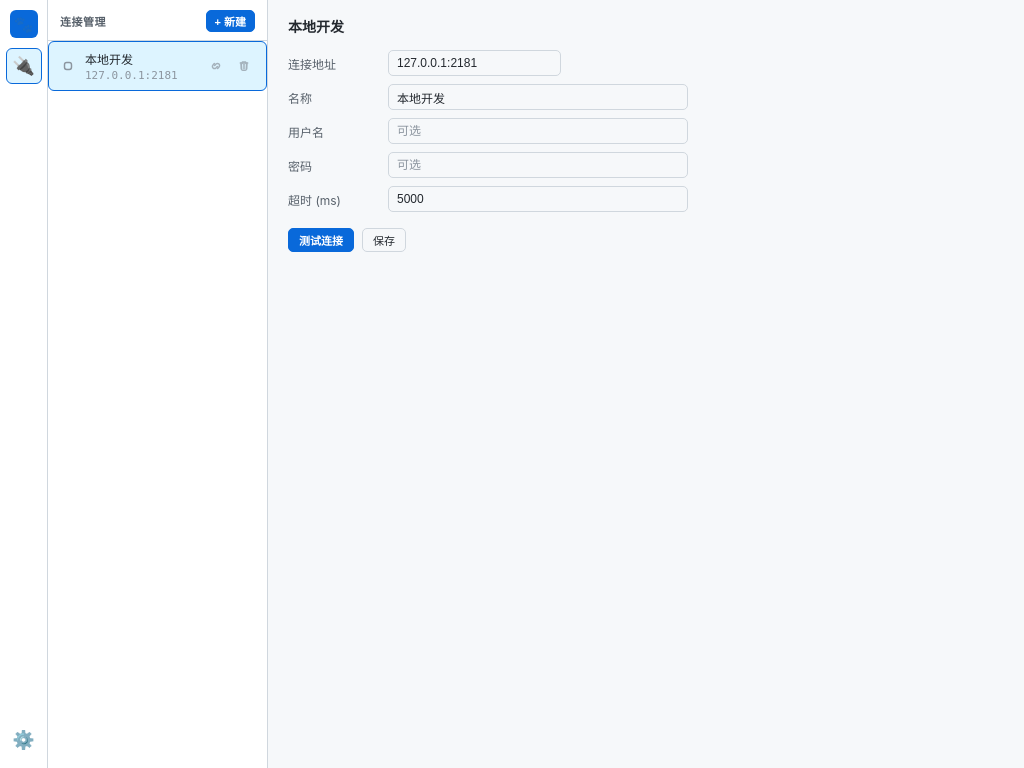
Test: shows portable mode plugin directory UI when runtime info reports portable mode
Step 1. Click the button with class "ribbon-btn" showing "⚙️" → (24, 740), box [6,722,42,758]
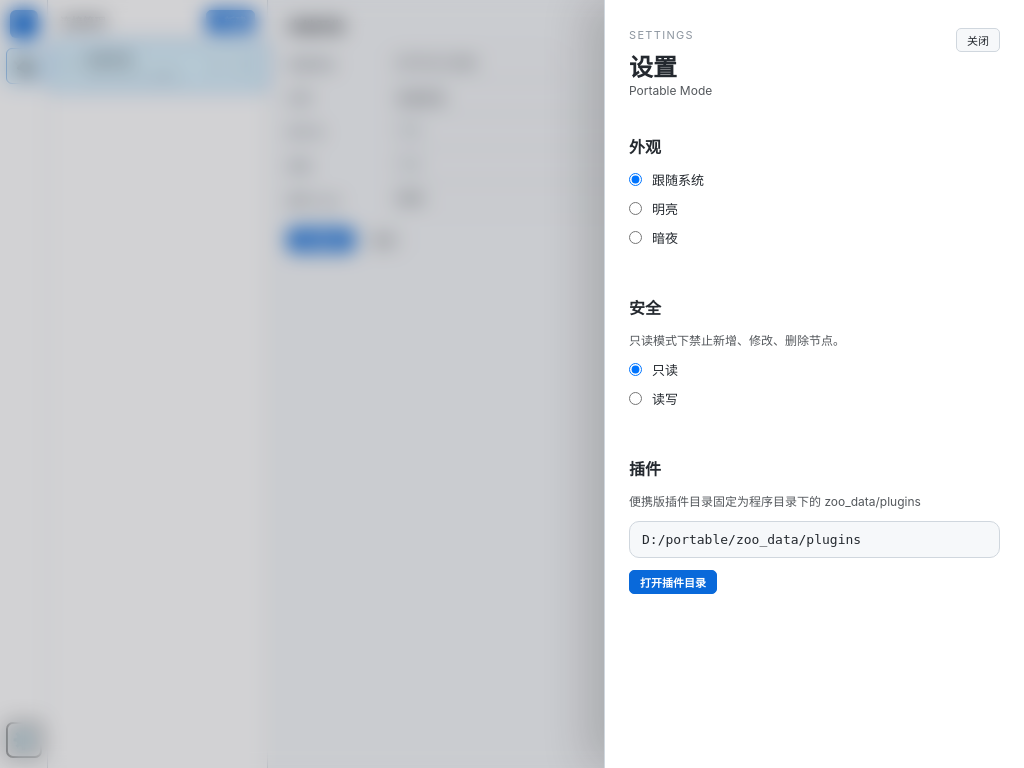
Now the text "Portable Mode" is shown, box [629,83,712,98]
Now the text "D:/portable/zoo_data/plugins" is shown, box [629,521,1000,558]
Now the button "打开插件目录" is shown, box [629,570,717,594]
